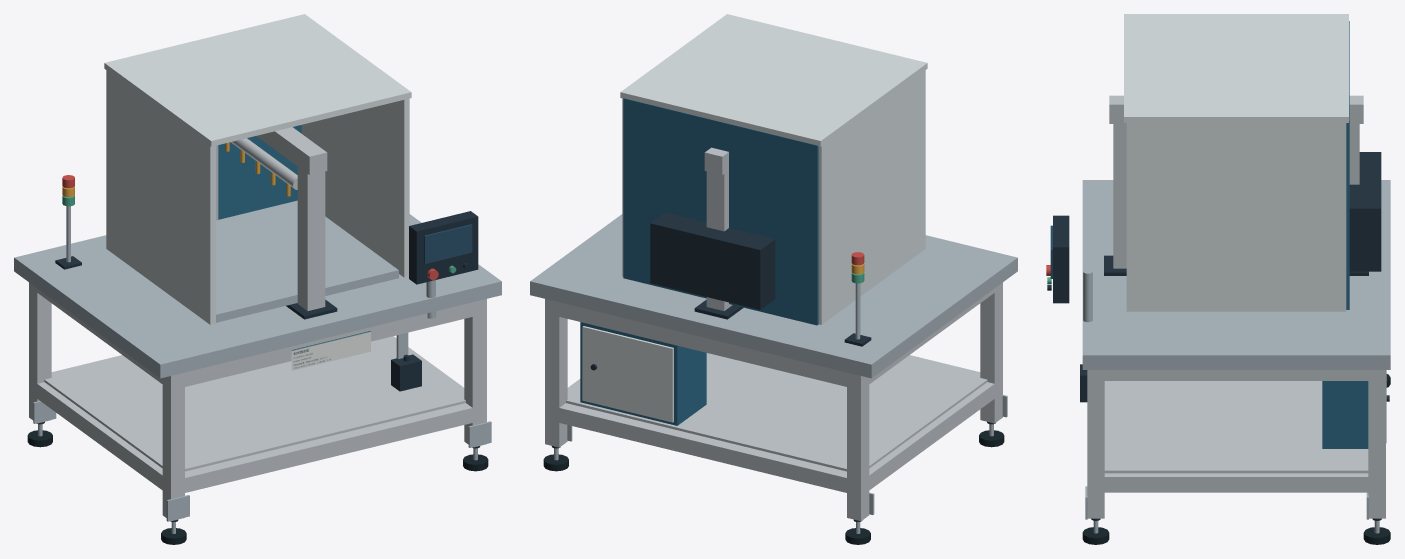
The model's file is powder-coating-cell.glb.
3 renders of one model, left to right at view 1: azimuth 30°, elevation 25°; view 2: azimuth 150°, elevation 25°; view 3: azimuth 270°, elevation 25°, orthographic. The views are drawn at different scales.
Parts seen in each view (by area): view 1: LowerShelf_29, ClosedMachineBed_28, SprayBoothRoof_62, SprayBoothSide_59, SprayBoothSide_60, CatchTray_63, SlottedExtrusion_22, SprayBoothBack_61, SlottedExtrusion_50, SlottedExtrusion_23, SlottedExtrusion_24, SlottedExtrusion_8 (+9 smaller); view 2: ClosedMachineBed_28, SprayBoothBack_61, SprayBoothRoof_62, LowerShelf_29, SprayBoothSide_59, ExtractionPlenum_64, BackDoor_31, SlottedExtrusion_20, SlottedExtrusion_21, SlottedExtrusion_3, Cabinet_30, SlottedExtrusion_13 (+5 smaller); view 3: SprayBoothSide_60, ClosedMachineBed_28, SprayBoothRoof_62, LowerShelf_29, SlottedExtrusion_26, ExtractionPlenum_64, Cabinet_30, SlottedExtrusion_27, SlottedExtrusion_18, SlottedExtrusion_13, SlottedExtrusion_50, ConsoleBack_34 (+4 smaller).
Boxes of the visible parts, <box> form: LowerShelf_29: <box>44,337,465,471</box>; ClosedMachineBed_28: <box>14,214,501,378</box>; SprayBoothRoof_62: <box>104,14,411,146</box>; SprayBoothSide_59: <box>106,70,215,324</box>; SprayBoothSide_60: <box>301,98,409,277</box>; CatchTray_63: <box>216,200,398,322</box>; SlottedExtrusion_22: <box>178,403,479,494</box>; SprayBoothBack_61: <box>218,125,301,219</box>; SlottedExtrusion_50: <box>297,160,325,310</box>; SlottedExtrusion_23: <box>178,300,479,388</box>; SlottedExtrusion_24: <box>33,381,166,491</box>; SlottedExtrusion_8: <box>162,372,184,521</box>; ClosedMachineBed_28: <box>530,214,1017,378</box>; SprayBoothBack_61: <box>623,98,818,325</box>; SprayBoothRoof_62: <box>620,14,927,146</box>; LowerShelf_29: <box>566,353,987,471</box>; SprayBoothSide_59: <box>818,70,925,324</box>; ExtractionPlenum_64: <box>650,212,775,309</box>; BackDoor_31: <box>582,326,673,422</box>; SlottedExtrusion_20: <box>552,403,853,494</box>; SlottedExtrusion_21: <box>552,301,853,387</box>; SlottedExtrusion_3: <box>847,372,869,521</box>; Cabinet_30: <box>580,322,706,425</box>; SlottedExtrusion_13: <box>545,299,567,447</box>; SprayBoothSide_60: <box>1126,123,1346,311</box>; ClosedMachineBed_28: <box>1082,180,1390,369</box>; SprayBoothRoof_62: <box>1124,14,1348,122</box>; LowerShelf_29: <box>1104,381,1368,473</box>; SlottedExtrusion_26: <box>1096,473,1376,492</box>; ExtractionPlenum_64: <box>1349,152,1381,271</box>; Cabinet_30: <box>1322,381,1368,448</box>; SlottedExtrusion_27: <box>1096,370,1376,380</box>; SlottedExtrusion_18: <box>1087,370,1104,518</box>; SlottedExtrusion_13: <box>1368,370,1385,518</box>; SlottedExtrusion_50: <box>1113,114,1126,268</box>; ConsoleBack_34: <box>1053,215,1069,303</box>.
Size of the model in its own units: 1.55 by 1.63 by 1.29.
11 materials, 1 textured.
